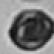correct: (7, 9, 54, 50)
